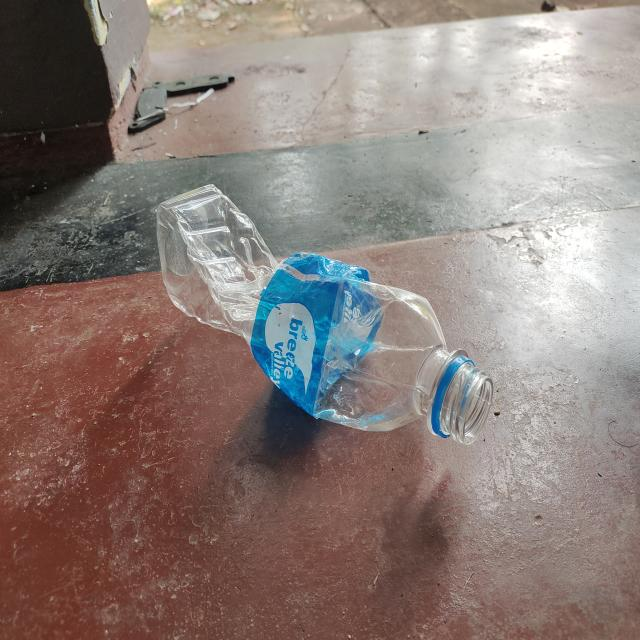plastic: (154, 178, 497, 450)
